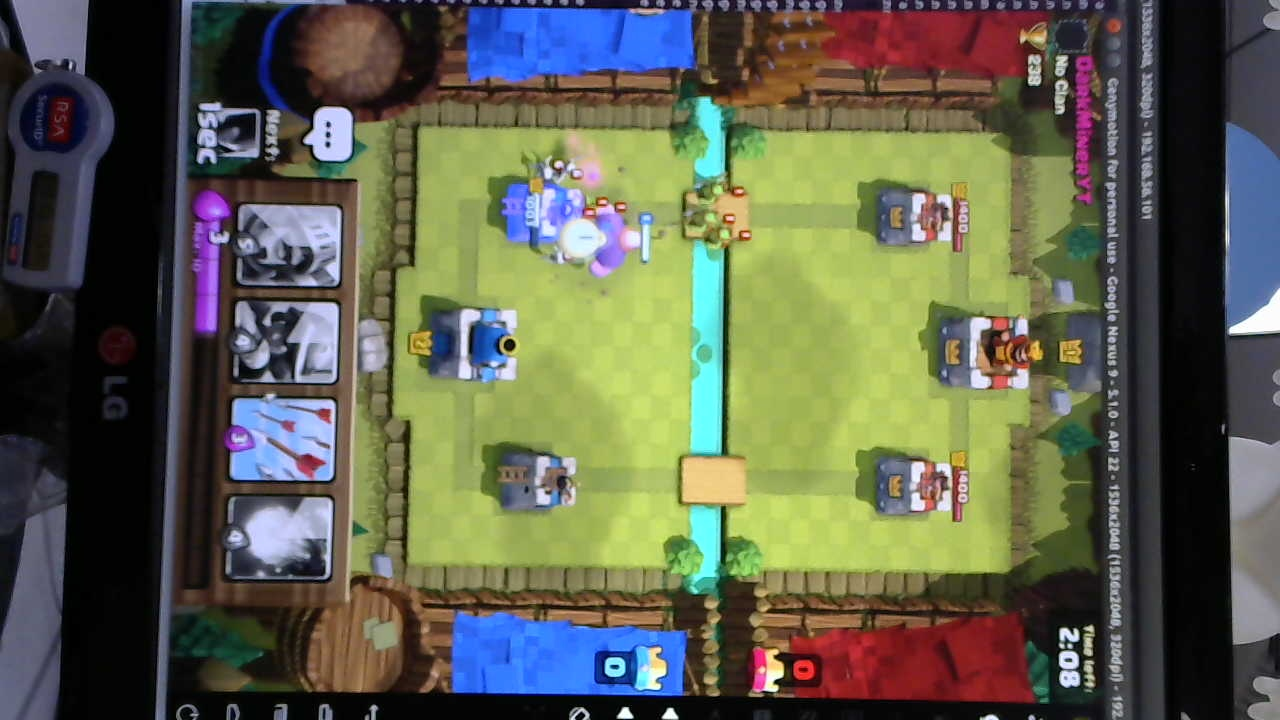arena: (501, 177, 585, 250), (499, 447, 580, 513)
earena: (869, 457, 953, 519), (878, 192, 958, 250)
eking: (936, 310, 1040, 392)
giant: (588, 199, 639, 277)
king: (434, 305, 520, 386)
skeleton: (535, 158, 590, 191)
speargoblins: (679, 177, 749, 251)
